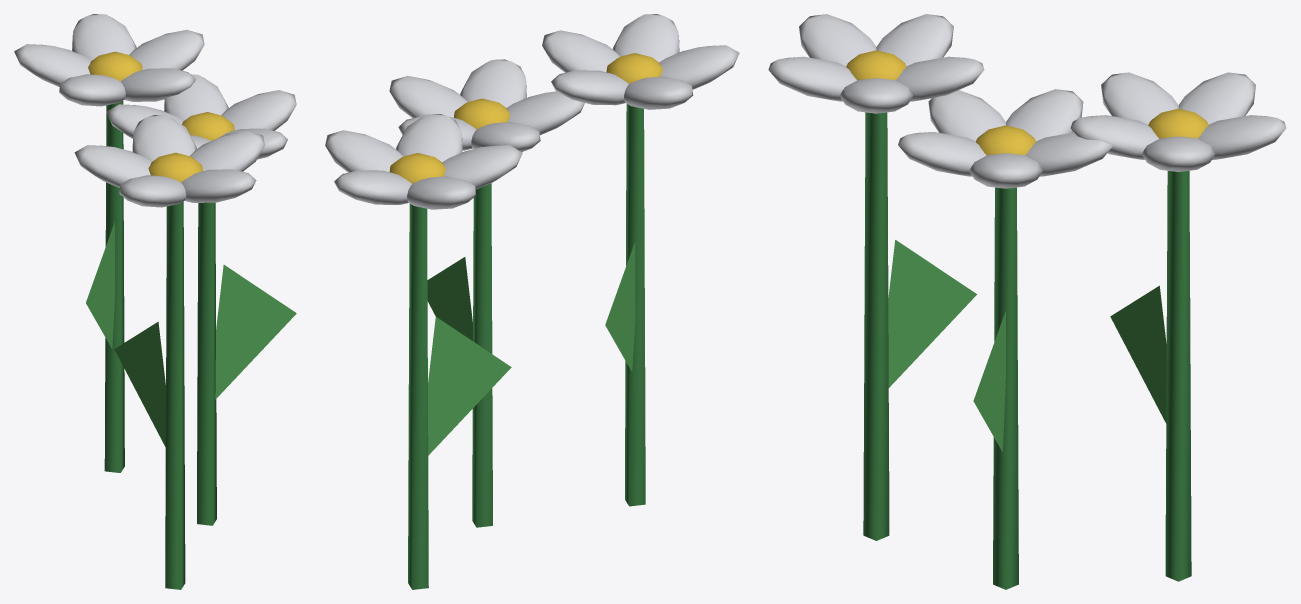
File: flower_white.glb
3 renders of one model, left to right at view 1: azimuth 30°, elevation 25°; view 2: azimuth 150°, elevation 25°; view 3: azimuth 270°, elevation 25°, orthographic. The views are drawn at different scales.
Parts seen in each view (by area): view 1: flower_white; view 2: flower_white; view 3: flower_white.
Boxes of the visible parts, left/top/right/bottom form: flower_white: left=14, top=14, right=296, bottom=589; flower_white: left=325, top=14, right=739, bottom=589; flower_white: left=768, top=14, right=1286, bottom=589.
Size of the model in its own units: 0.3001 by 0.4928 by 0.4773.
